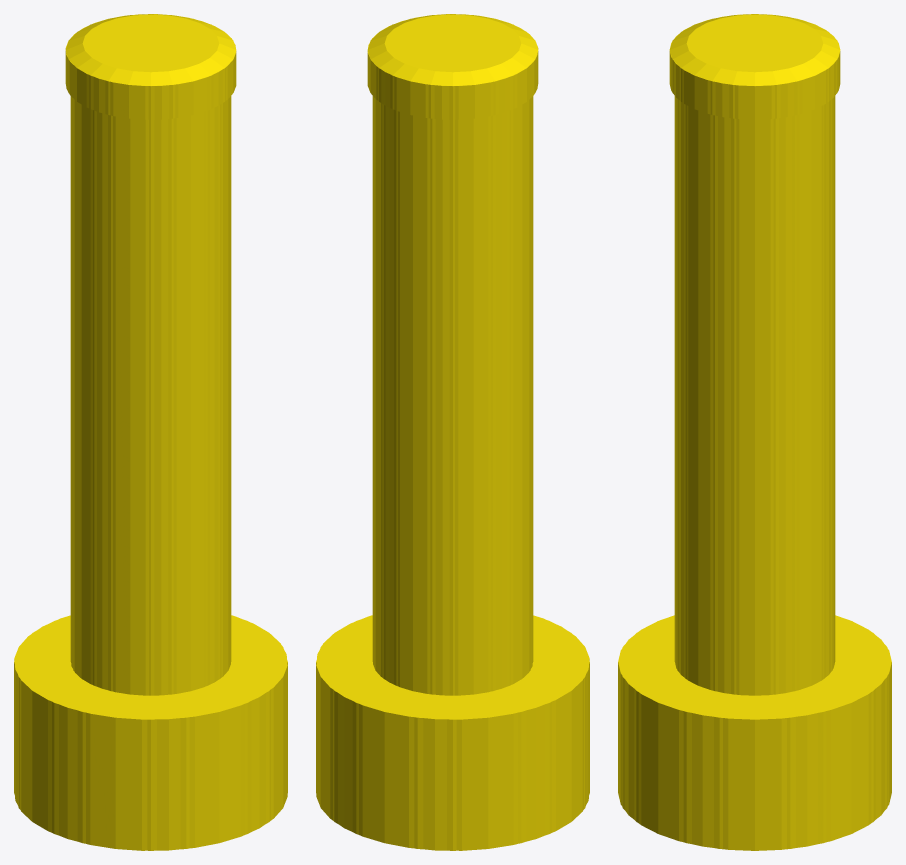
File: Bollard.fbx
3 views of the same model, side by side, from view 1: azimuth 30°, elevation 25°; view 2: azimuth 150°, elevation 25°; view 3: azimuth 270°, elevation 25° (orthographic).
Parts seen in each view (by area): view 1: Bollard; view 2: Bollard; view 3: Bollard.
Part boxes in pixels (x1,y1,x2,y2): Bollard: [14, 14, 287, 850]; Bollard: [316, 14, 589, 850]; Bollard: [618, 14, 891, 850].
Bounding box in the file's own units: 3686 × 11140 × 3686.
